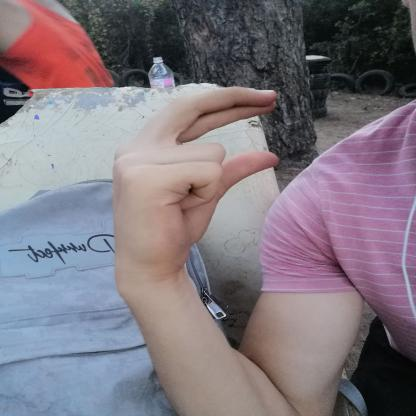DHELL: (103, 77, 292, 274)
